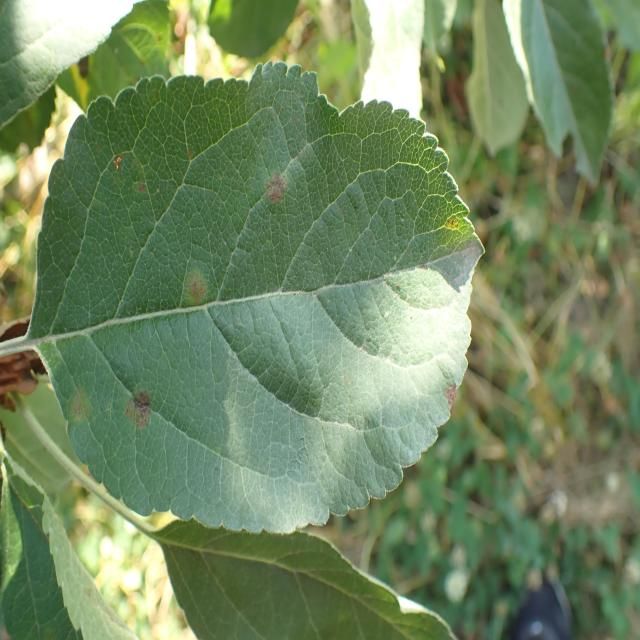scab: (165, 246, 222, 316), (108, 141, 156, 212), (124, 369, 162, 446), (261, 150, 294, 233), (66, 376, 98, 443), (442, 369, 478, 425)
